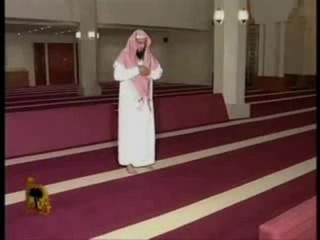qiyam: (113, 30, 163, 175)
